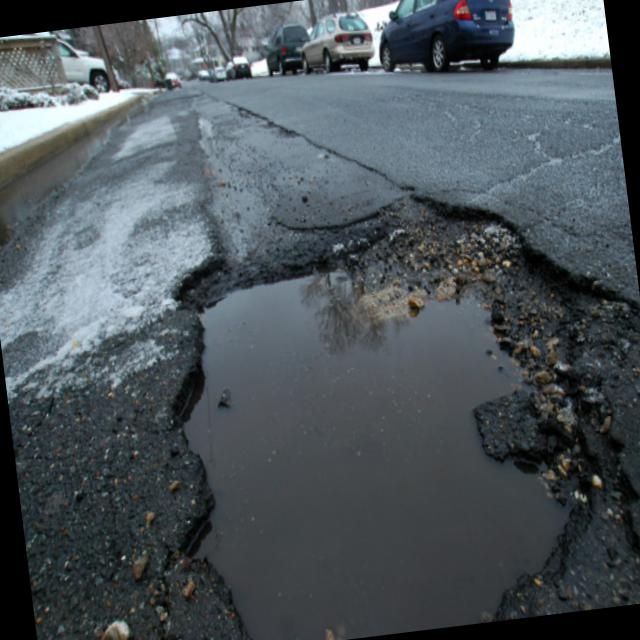Potholes: (90, 137, 640, 640)
